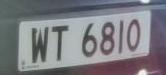0: (125, 16, 144, 57)
1: (115, 16, 128, 60)
6: (78, 19, 100, 64)
8: (98, 17, 118, 62)
T: (49, 22, 74, 66)
W: (27, 23, 52, 69)
